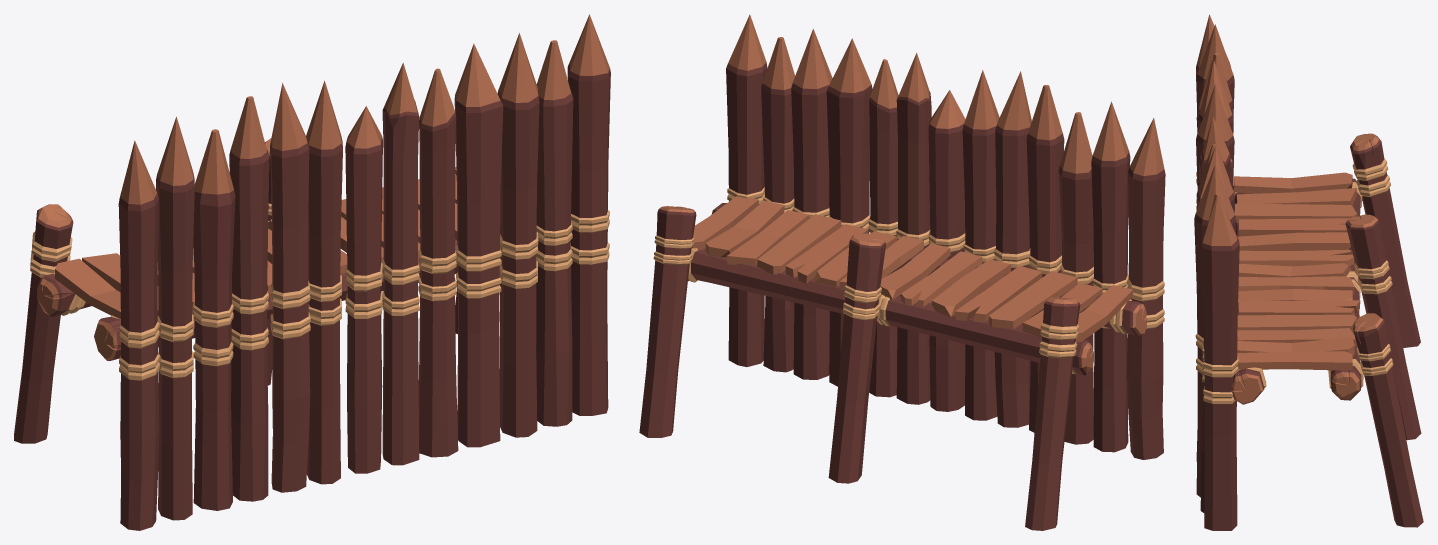
The model's file is Wooden Palisade 02.fbx.
3 views of the same model, side by side, from view 1: azimuth 30°, elevation 25°; view 2: azimuth 150°, elevation 25°; view 3: azimuth 270°, elevation 25° (orthographic). The views are drawn at different scales.
Parts seen in each view (by area): view 1: Wooden Palisade 02; view 2: Wooden Palisade 02; view 3: Wooden Palisade 02.
Boxes of the visible parts, bbox=[...] form: Wooden Palisade 02: bbox=[14, 14, 610, 530]; Wooden Palisade 02: bbox=[639, 14, 1165, 530]; Wooden Palisade 02: bbox=[1194, 14, 1423, 530].
Bounding box in the file's own units: 401 × 315 × 194.
